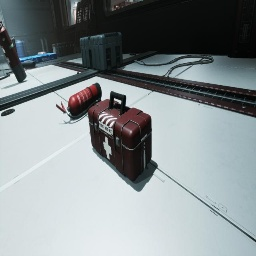FireExtinguisher ]: (56, 82, 102, 119)
FirstAidBox ,: (88, 91, 152, 182)
NitrogenTank ,: (0, 20, 27, 82), (38, 52, 48, 58)
